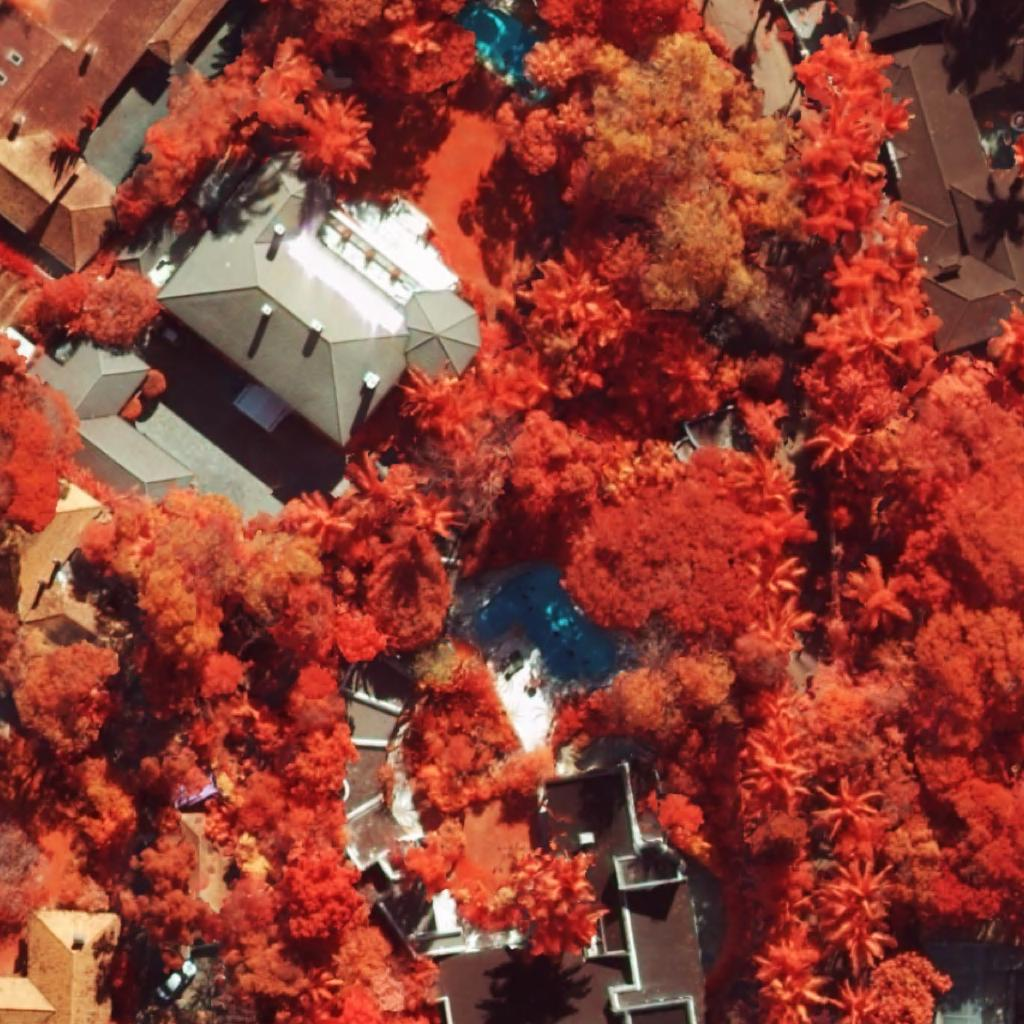pool: (476, 567, 615, 682), (456, 1, 540, 82)
